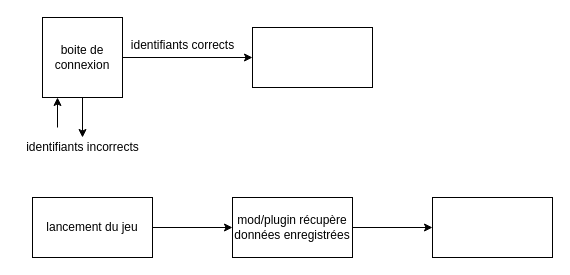
The diagram is 570 pixels wide and 275 high, and some of its shapes have lost their labels. The centre of each missing label's shape, as x and y in pixels:
"Enregistrer données du compte dans un json crypté" belongs at point (312, 57).
"on définit le skin quand un serveur est rejoint" belongs at point (492, 227).
